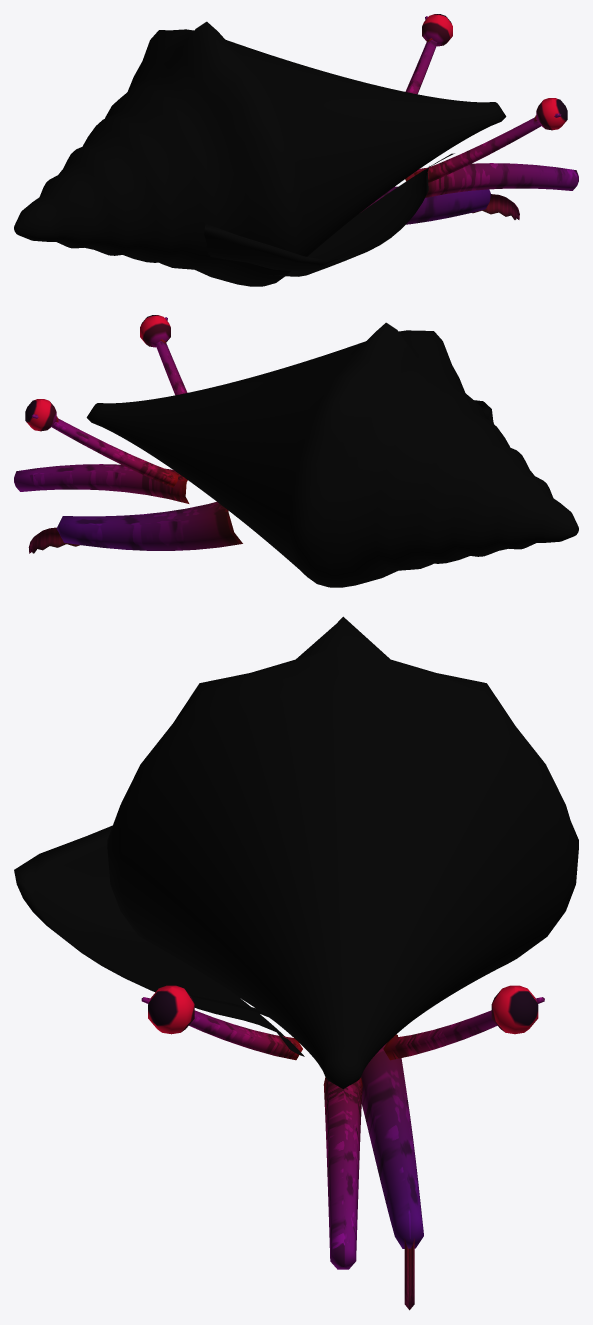
File: fighting_conch.glb
The picture shows the model from 3 angles, top to bottom: view 1: azimuth 30°, elevation 25°; view 2: azimuth 150°, elevation 25°; view 3: azimuth 270°, elevation 25°; orthographic projection. The views are drawn at different scales.
Visible parts, largest first — view 1: Shell, Body, Stalks, Eyes, Operculum; view 2: Shell, Body, Stalks, Eyes, Operculum; view 3: Shell, Body, Stalks, Eyes.
Boxes of the visible parts, bbox=[...] form: Shell: bbox=[14, 21, 506, 286]; Body: bbox=[360, 163, 578, 224]; Stalks: bbox=[405, 16, 561, 182]; Eyes: bbox=[422, 14, 567, 130]; Operculum: bbox=[472, 194, 519, 219]; Shell: bbox=[86, 322, 578, 587]; Body: bbox=[14, 464, 242, 550]; Stalks: bbox=[31, 317, 187, 487]; Eyes: bbox=[25, 315, 170, 431]; Operculum: bbox=[28, 527, 80, 553]; Shell: bbox=[14, 616, 578, 1088]; Body: bbox=[323, 1034, 423, 1269]; Stalks: bbox=[141, 997, 544, 1060]; Eyes: bbox=[148, 985, 538, 1034].
Bounding box in the file's own units: 1.18 × 0.5985 × 0.6804.
1 material, 1 textured.
